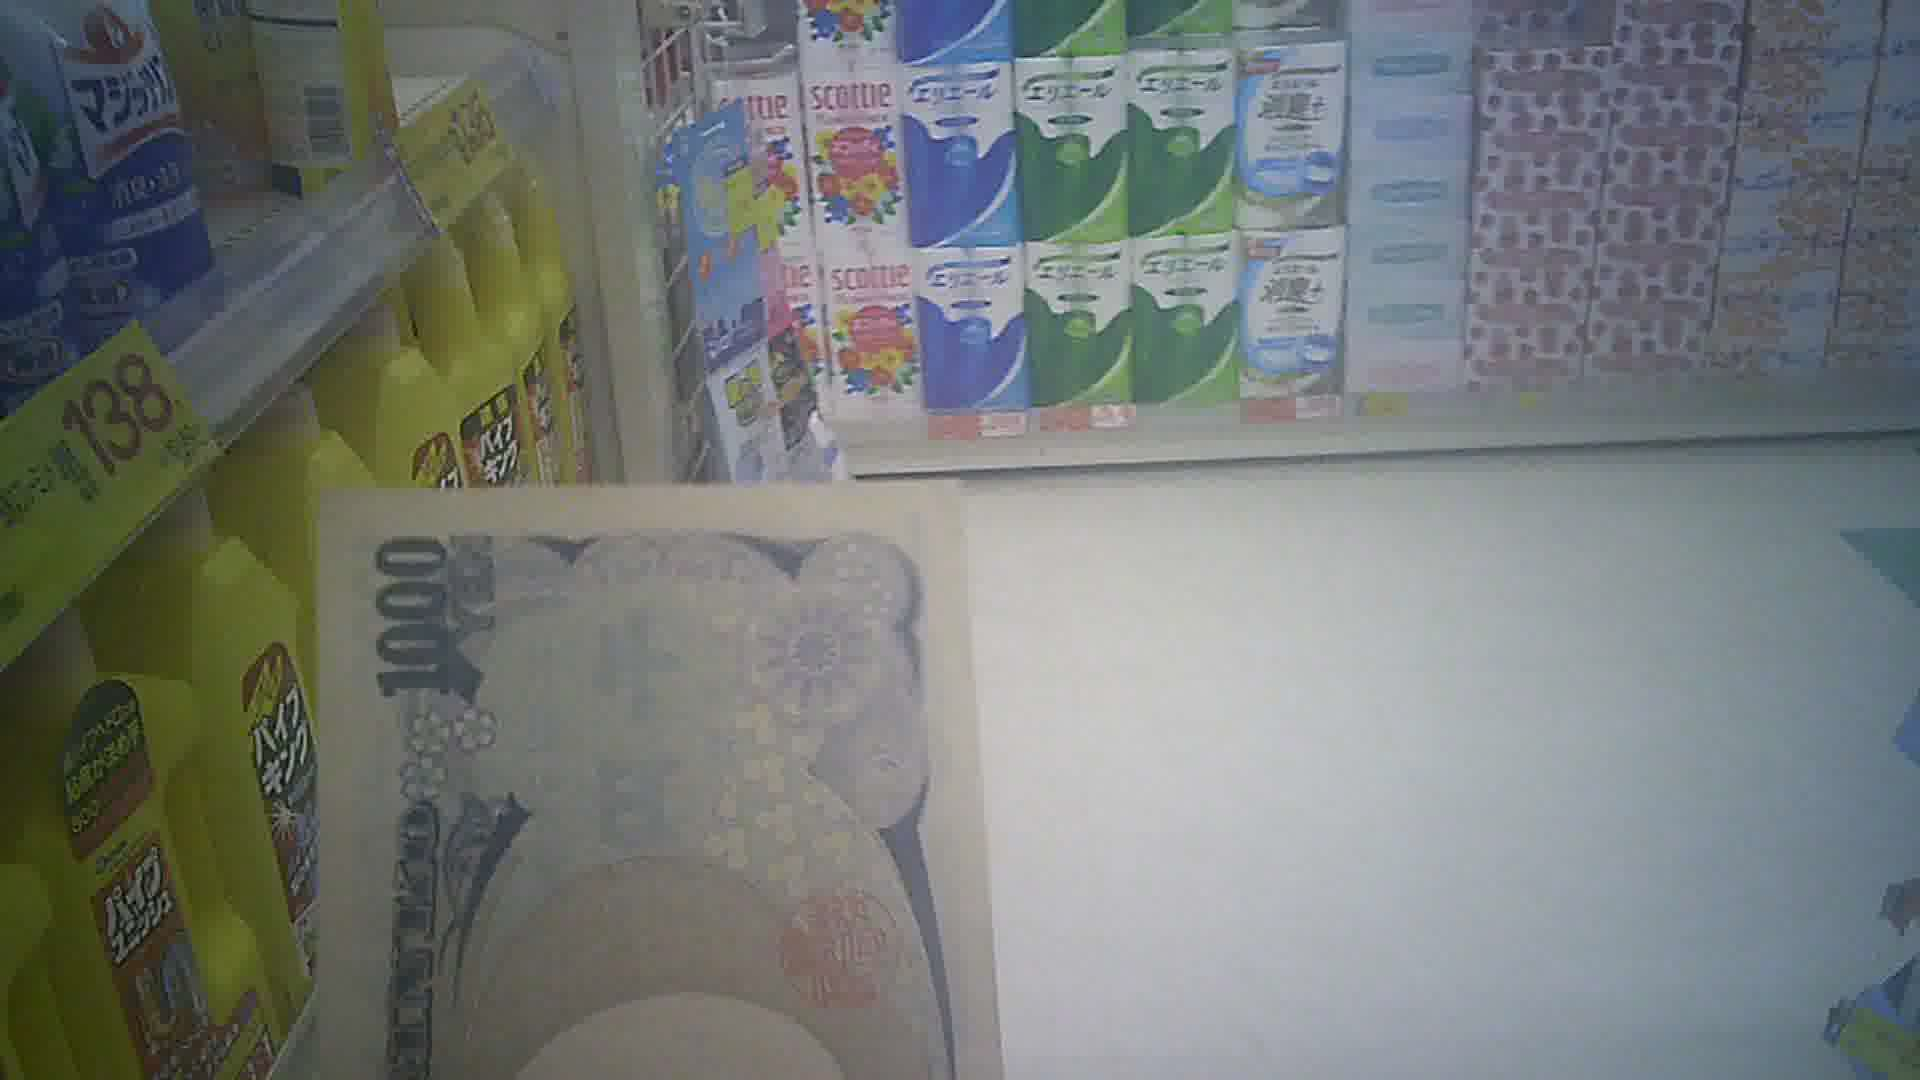1,000 Yen: (311, 471, 1025, 1073)
